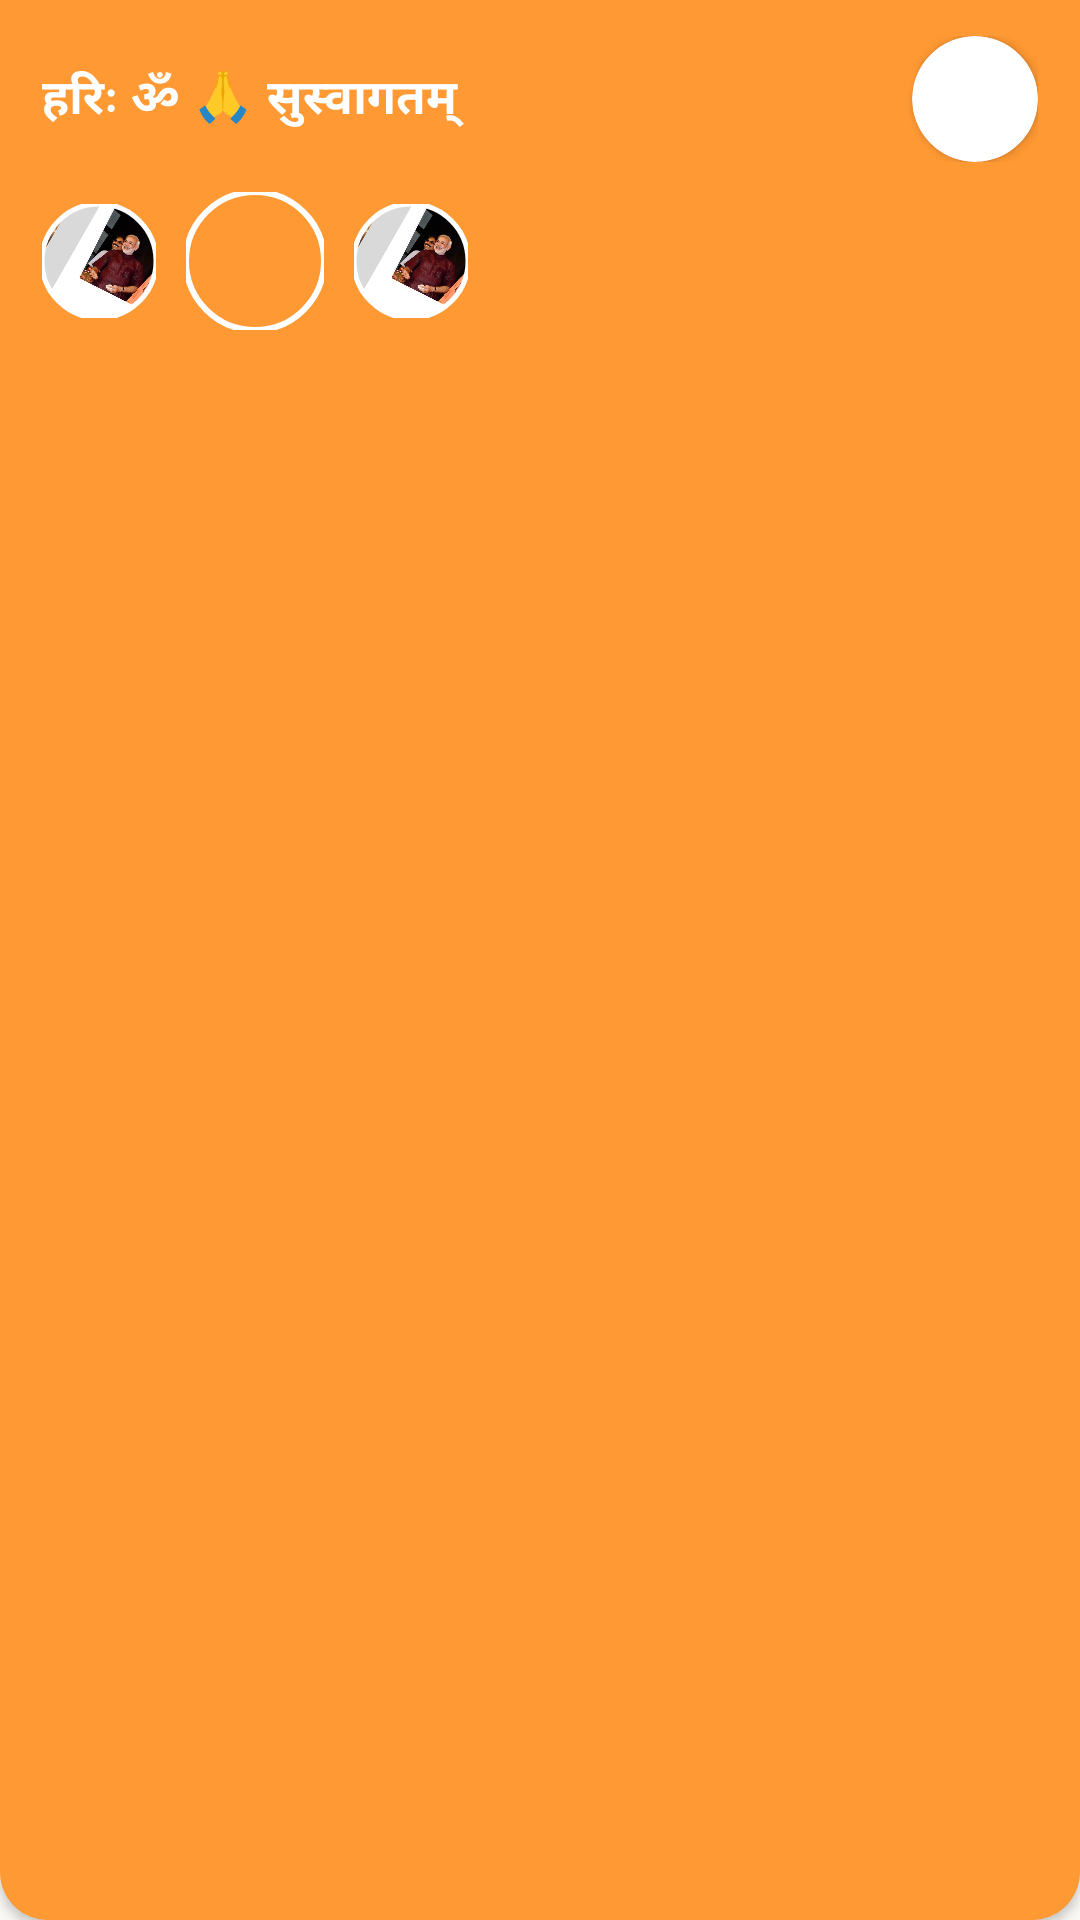

Named icons in this screenshot (1080×1920) and their bounding boxes, [x1=x1, y1=y1, x2=x2, y2=y2]:
Photo 1: [x1=42, y1=204, x2=156, y2=318]
Photo 3: [x1=354, y1=204, x2=468, y2=318]
